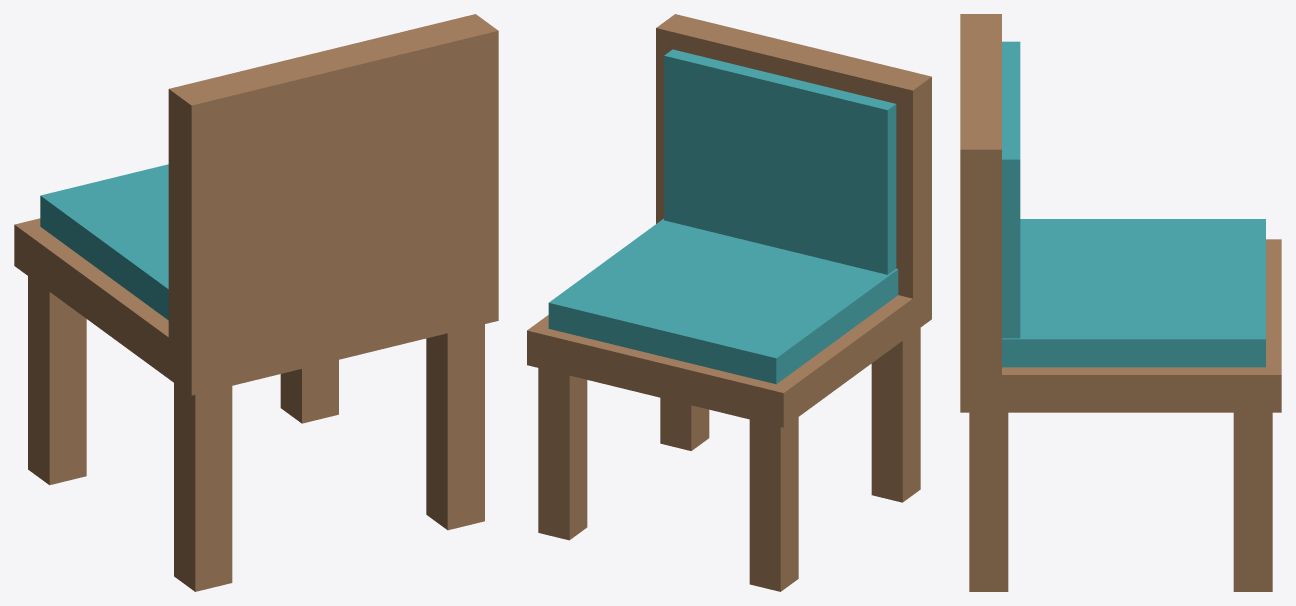
The model's file is citizens-demo-chair.glb.
3 renders of one model, left to right at view 1: azimuth 30°, elevation 25°; view 2: azimuth 150°, elevation 25°; view 3: azimuth 270°, elevation 25°, orthographic. The views are drawn at different scales.
Parts seen in each view (by area): view 1: Back frame, Chair leg (×4), Seat frame, Seat cushion; view 2: Back cushion, Seat cushion, Chair leg (×4), Back frame, Seat frame; view 3: Seat cushion, Seat frame, Back frame, Chair leg (×2), Back cushion.
Part boxes in pixels (x1,y1,x2,y2): Back frame: (168, 14, 498, 364); Chair leg (×4): (28, 276, 484, 591); Seat frame: (14, 218, 498, 395); Seat cushion: (40, 164, 168, 320); Back cushion: (664, 49, 896, 274); Seat cushion: (548, 218, 898, 384); Chair leg (×4): (538, 328, 920, 591); Back frame: (656, 14, 931, 298); Seat frame: (527, 285, 931, 427); Seat cushion: (1002, 219, 1265, 367); Seat frame: (960, 239, 1281, 412); Back frame: (960, 14, 1001, 384); Chair leg (×2): (969, 412, 1272, 591); Back cushion: (1002, 41, 1020, 338).
Bounding box in the file's own units: 0.62 × 0.95 × 0.62.
